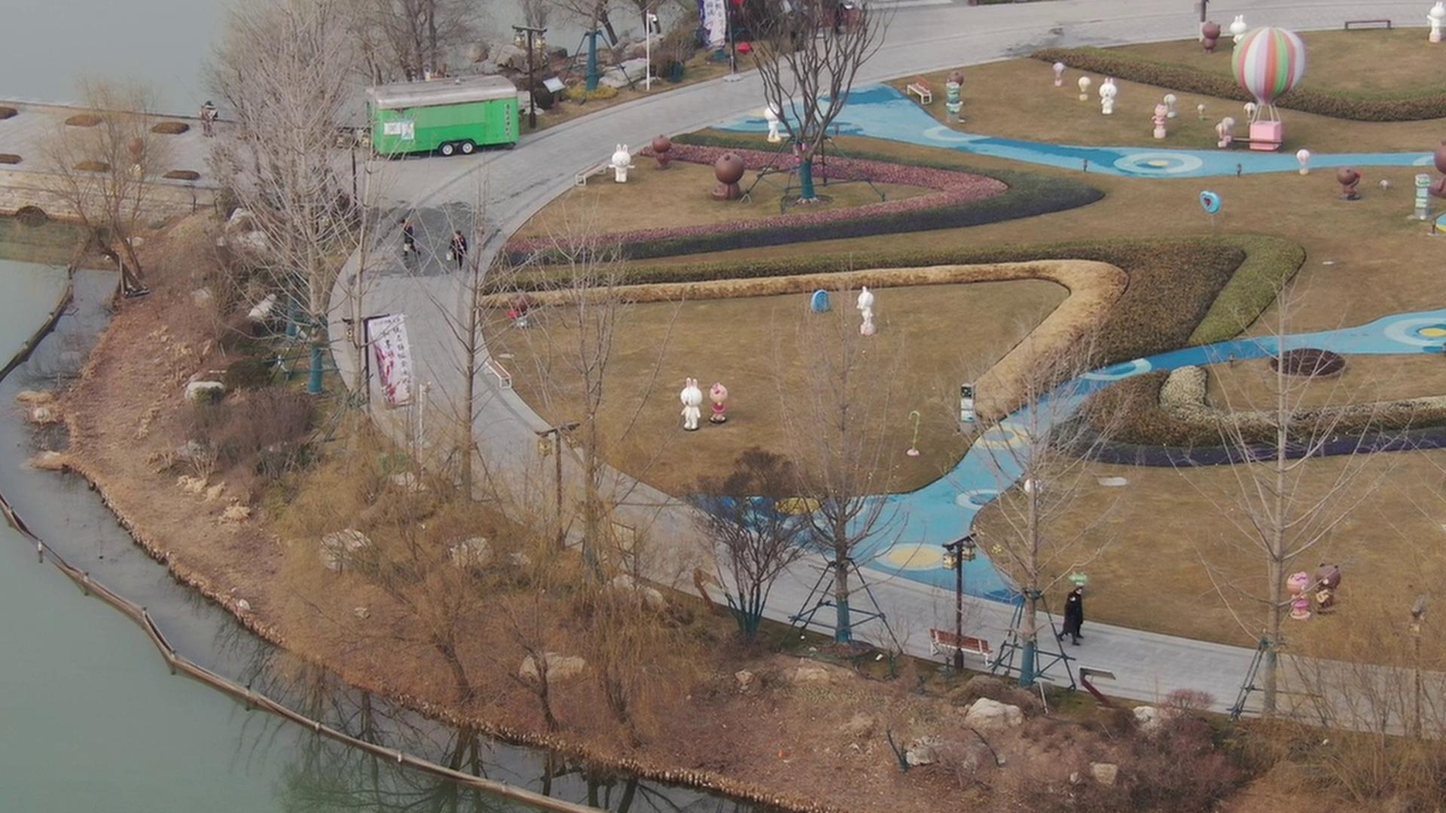class_2: (1050, 575, 1096, 646)
human: (444, 230, 466, 276)
